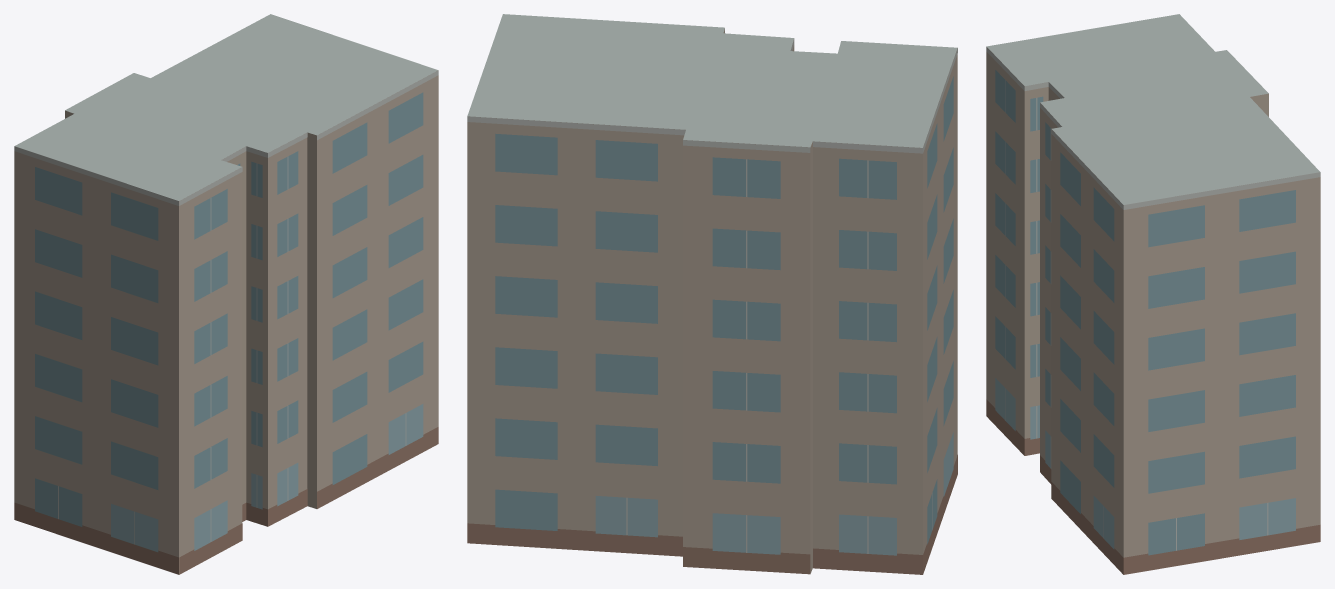
The model's file is survey-upis-32850732.glb.
The picture shows the model from 3 angles, left to right: view 1: azimuth 30°, elevation 25°; view 2: azimuth 150°, elevation 25°; view 3: azimuth 270°, elevation 25°; orthographic projection. The views are drawn at different scales.
Parts seen in each view (by area): view 1: survey-upis-32850732.tmp; view 2: survey-upis-32850732.tmp; view 3: survey-upis-32850732.tmp.
Part boxes in pixels (bbox=[...]): survey-upis-32850732.tmp: bbox=[14, 14, 438, 574]; survey-upis-32850732.tmp: bbox=[467, 14, 957, 574]; survey-upis-32850732.tmp: bbox=[986, 14, 1320, 574].
Size of the model in its own units: 20.3 by 18.3 by 15.
